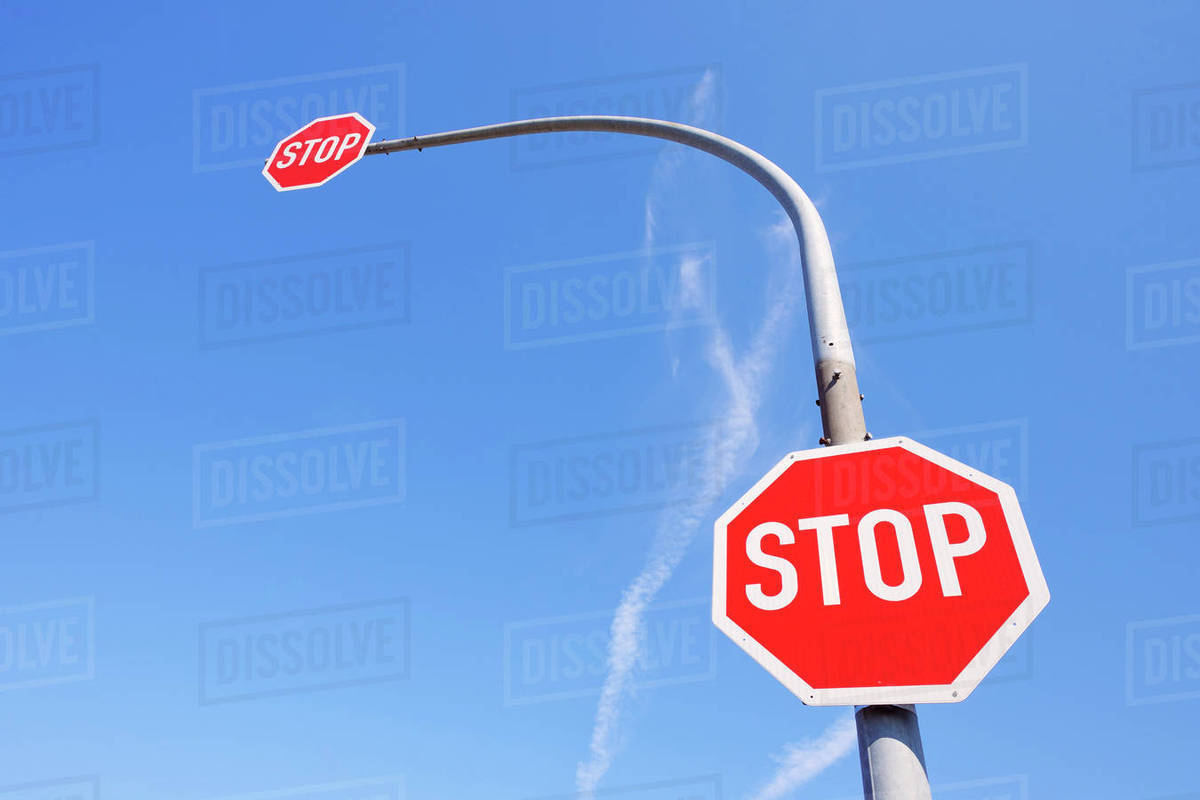stop_sign: (711, 433, 1052, 706), (259, 111, 378, 187)
